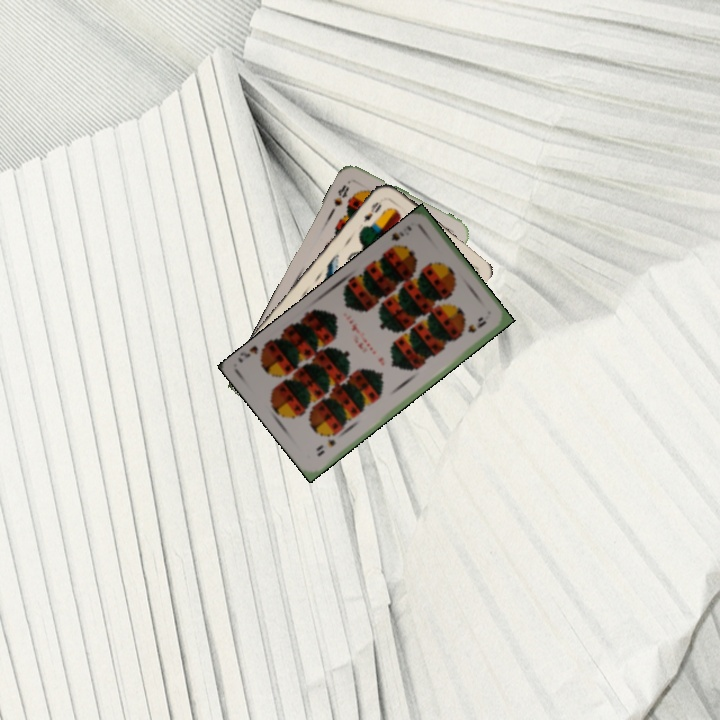EO: (359, 198, 384, 225)
S8: (329, 181, 352, 209)
S9: (386, 221, 414, 254), (313, 435, 338, 459)
